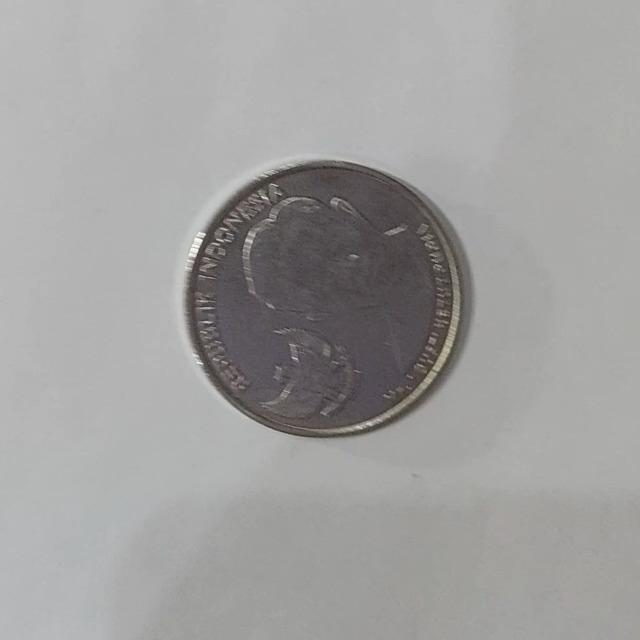Rp100: (181, 154, 464, 439)
